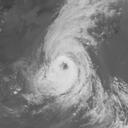cyclone: (30, 25, 96, 106)
